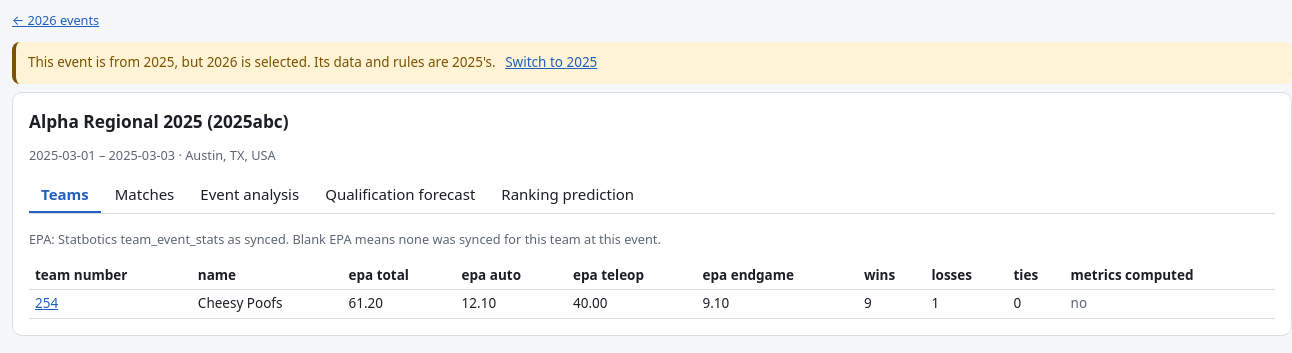
EventPage › warns when the event belongs to another season than the one selected, and can switch
Expected: the message with test id "season-mismatch" shows "This event is from 2025, but 2026 is selected", [12,42,1291,84]
Click the button "Switch to 2025".
click(551, 63)  # box [499,50,603,76]
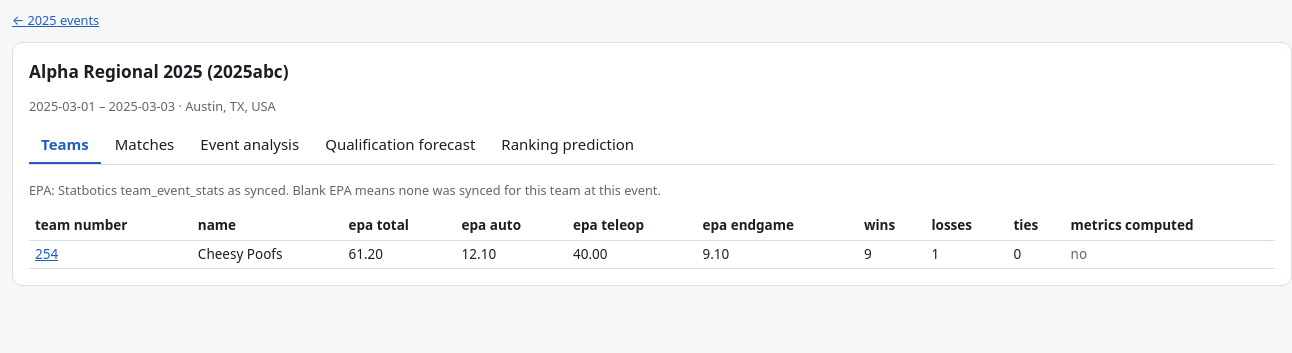
Expected: the message with test id "season-mismatch" is gone
